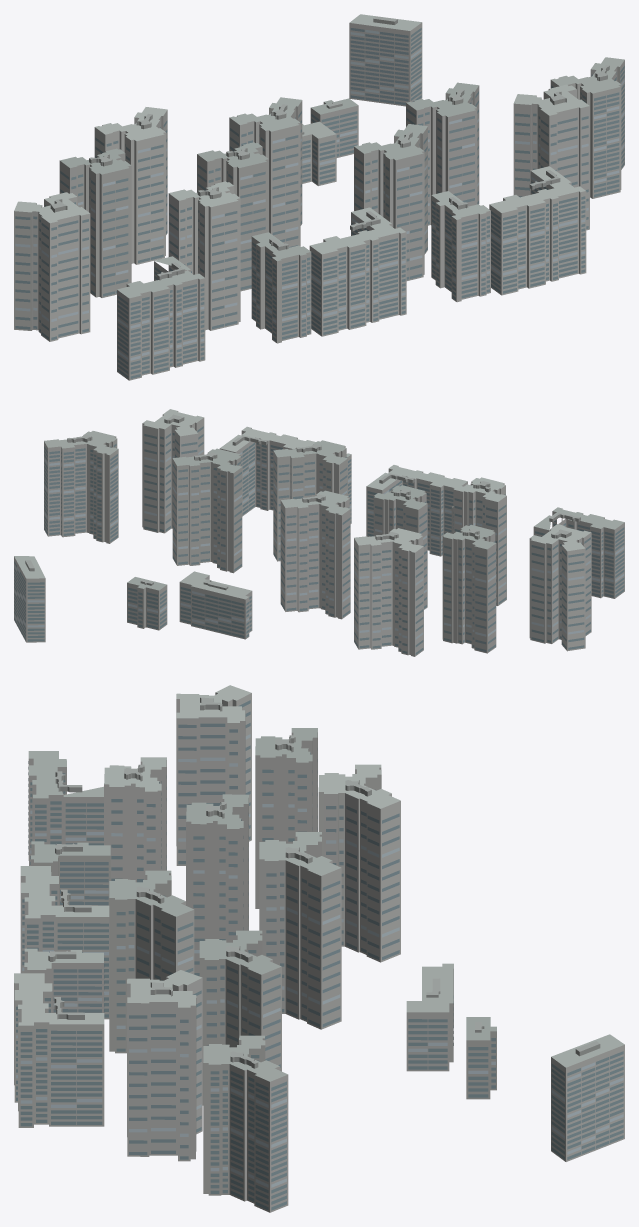
The model's file is apt-a10027073.glb.
3 renders of one model, top to bottom at view 1: azimuth 30°, elevation 25°; view 2: azimuth 150°, elevation 25°; view 3: azimuth 270°, elevation 25°, orthographic. The views are drawn at different scales.
Parts seen in each view (by area): view 1: apt-a10027073; view 2: apt-a10027073; view 3: apt-a10027073.
Boxes of the visible parts, x1=… form: apt-a10027073: x1=14, y1=14, x2=624, y2=380; apt-a10027073: x1=14, y1=409, x2=624, y2=656; apt-a10027073: x1=14, y1=685, x2=624, y2=1212.
Size of the model in its own units: 396 by 77 by 269.
